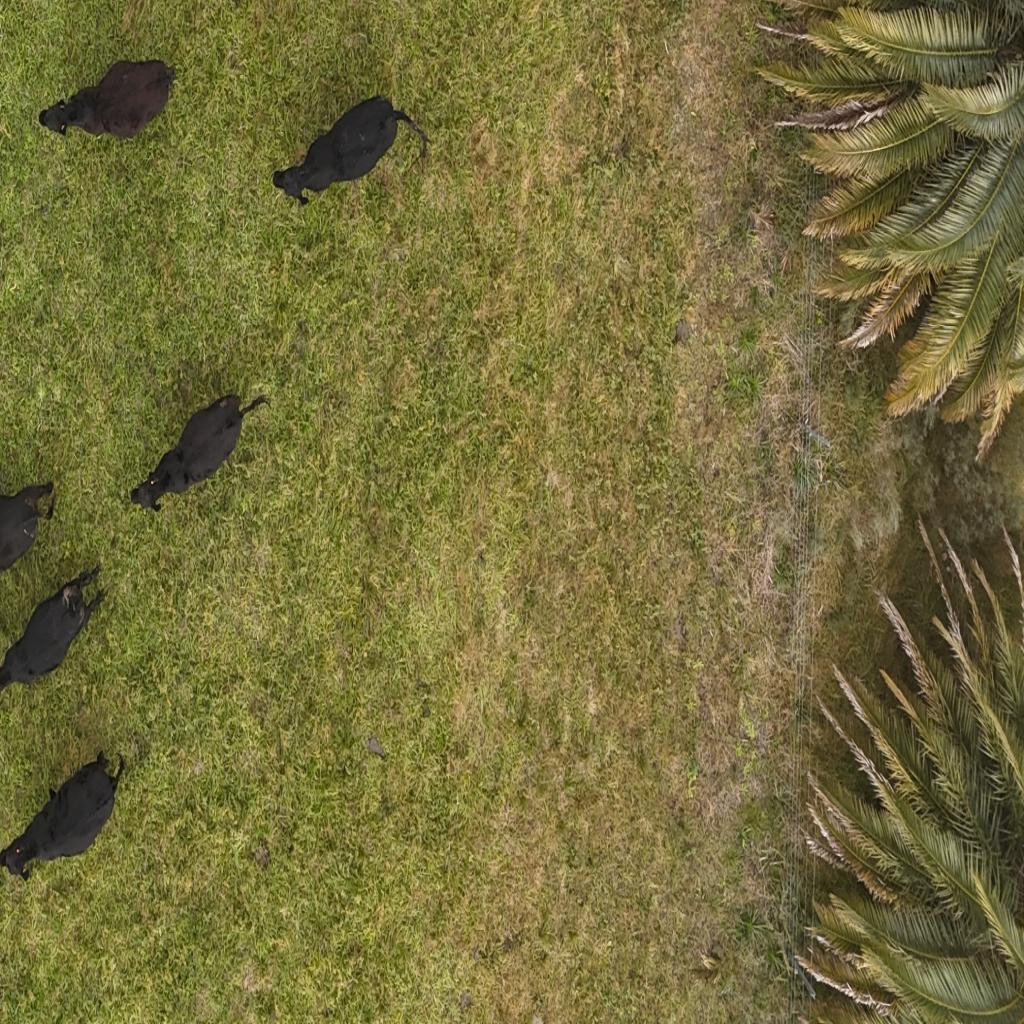cow: (131, 392, 271, 515), (0, 752, 127, 884), (1, 566, 108, 709), (273, 94, 410, 204), (39, 57, 178, 144)
